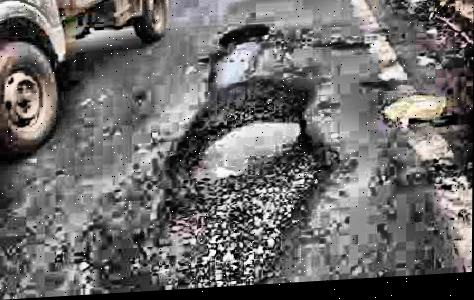pothole: (181, 94, 317, 195), (221, 26, 274, 49)
